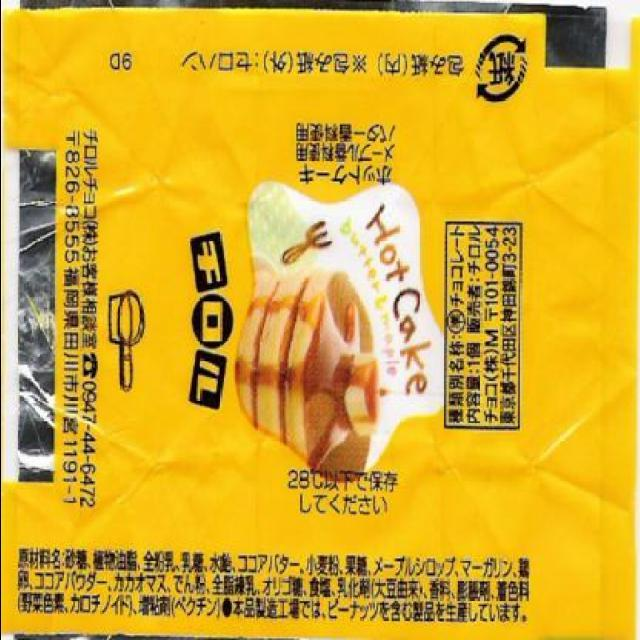Pancake: (288, 270, 372, 481)
